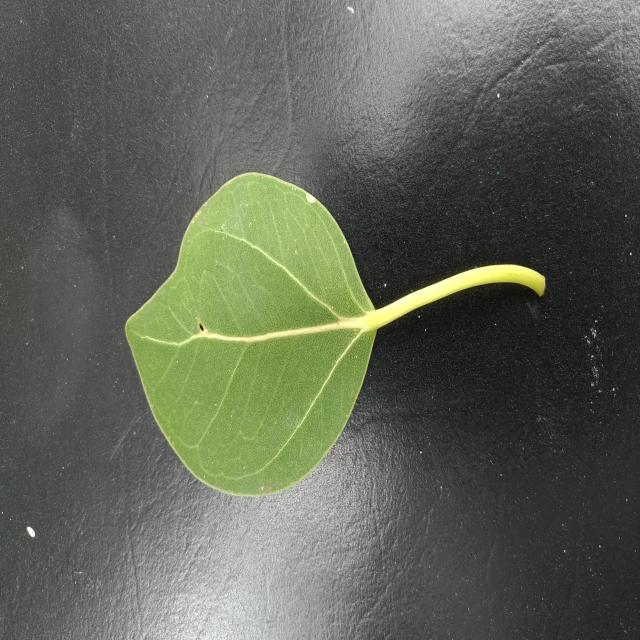camphor: (126, 173, 378, 496)
